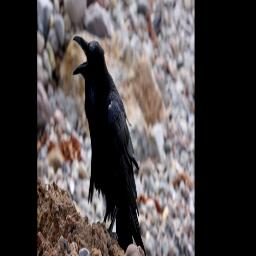Crow: (72, 36, 149, 256)
